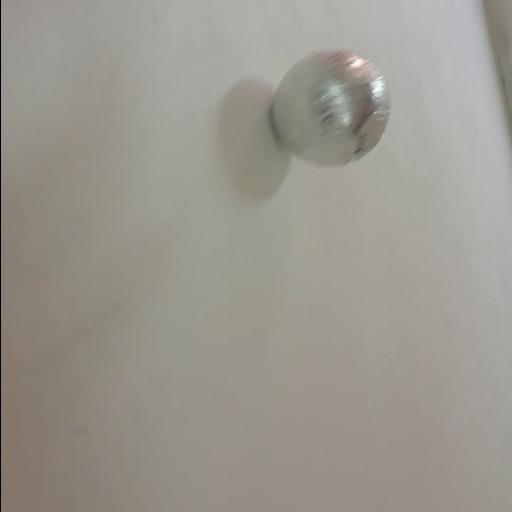alive: (268, 46, 390, 170)
